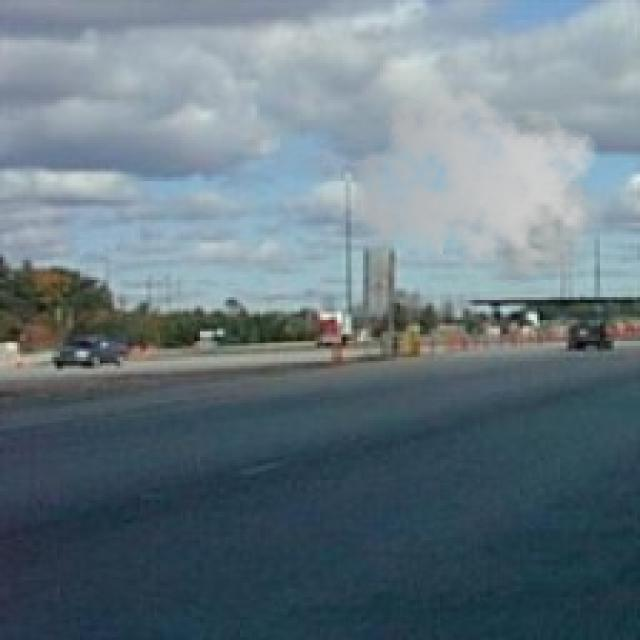Smoke: (351, 80, 606, 289)
